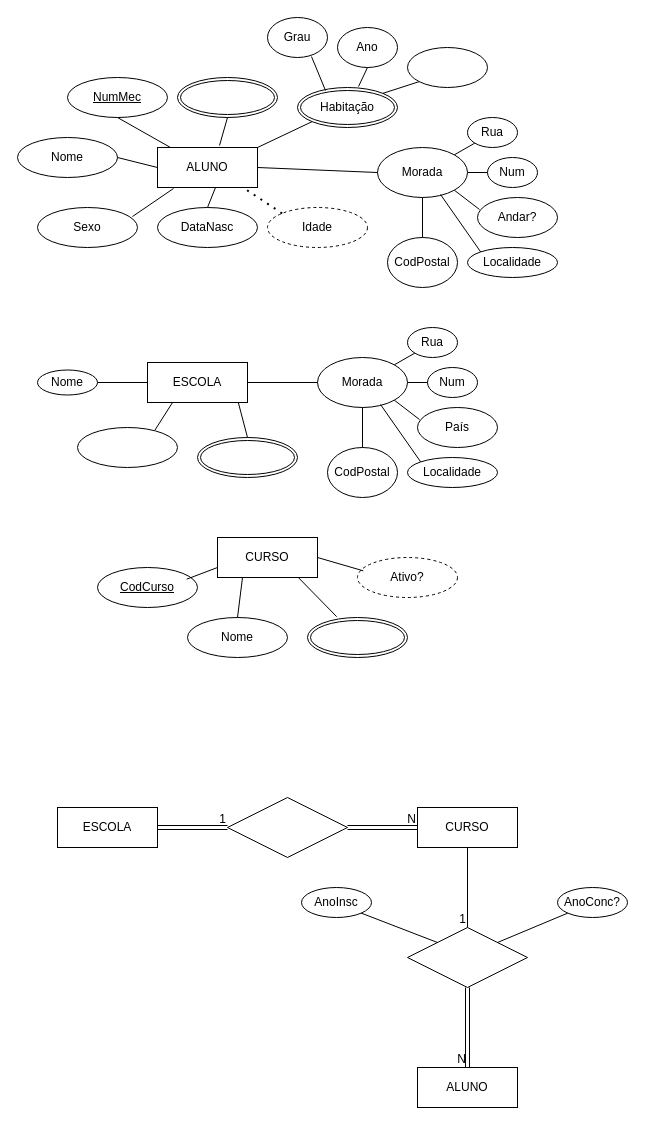
The diagram is 645 pixels wide and 1125 high, and some of its shapes have lost their labels. The centre of each missing label's shape, as x and y in pixels:
"CodEscola" goes at point (127, 447).
"Disciplinas" goes at point (357, 637).
"INSCRITO_EM" goes at point (467, 957).
"Instituição" goes at point (447, 67).
"LECCIONA" goes at point (287, 827).
"NumTelef" goes at point (227, 97).
"Telefone" goes at point (247, 457).
